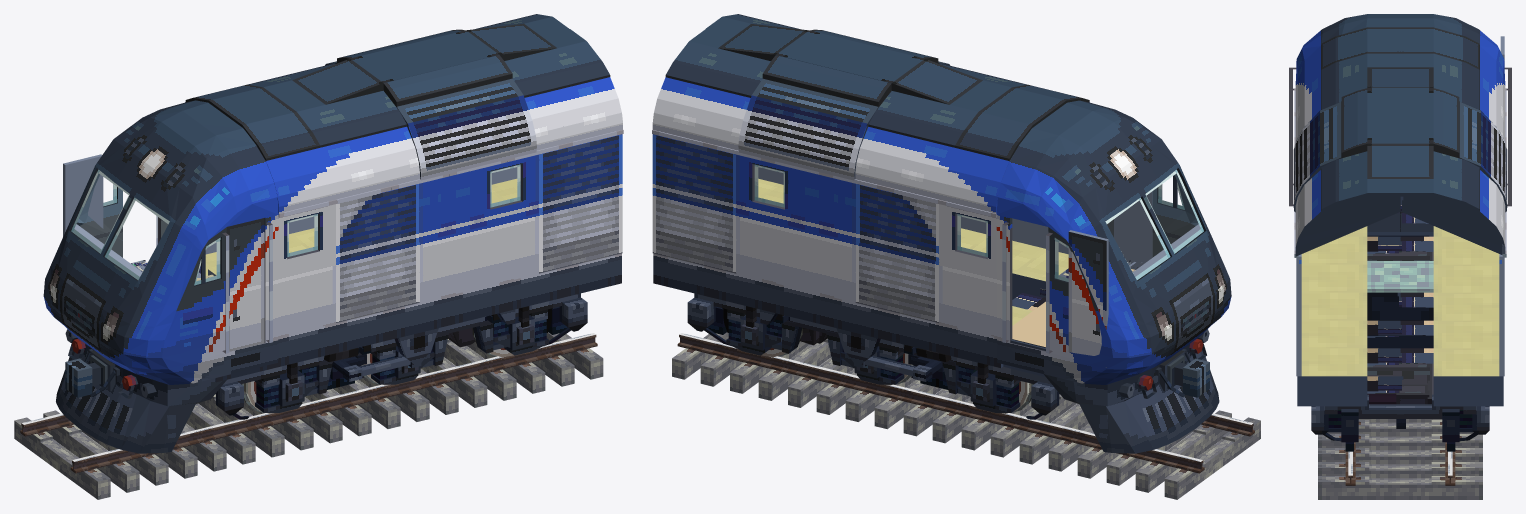
Rendered from df11g_head_example.glb.
The picture shows the model from 3 angles, left to right: view 1: azimuth 30°, elevation 25°; view 2: azimuth 150°, elevation 25°; view 3: azimuth 270°, elevation 25°; orthographic projection.
Visible parts, largest first — view 1: body_mesh, roof_mesh, head_mesh, track_mesh, underbody_mesh, cowcatcher_mesh; view 2: body_mesh, roof_mesh, head_mesh, track_mesh, underbody_mesh, cowcatcher_mesh; view 3: roof_mesh, body_mesh, underbody_mesh, track_mesh, head_mesh, cowcatcher_mesh, wheel_2.
Boxes of the visible parts, left/top/right/bottom form: body_mesh: left=63, top=134, right=622, bottom=382; roof_mesh: left=185, top=14, right=623, bottom=217; head_mesh: left=43, top=100, right=278, bottom=384; track_mesh: left=14, top=332, right=603, bottom=499; underbody_mesh: left=215, top=293, right=587, bottom=419; cowcatcher_mesh: left=56, top=329, right=226, bottom=453; body_mesh: left=652, top=134, right=1152, bottom=376; roof_mesh: left=652, top=14, right=1089, bottom=217; head_mesh: left=996, top=100, right=1231, bottom=384; track_mesh: left=672, top=332, right=1260, bottom=499; underbody_mesh: left=687, top=280, right=1059, bottom=419; cowcatcher_mesh: left=1010, top=329, right=1219, bottom=453; roof_mesh: left=1293, top=27, right=1507, bottom=257; body_mesh: left=1296, top=36, right=1504, bottom=406; underbody_mesh: left=1311, top=212, right=1489, bottom=451; track_mesh: left=1318, top=419, right=1482, bottom=499; head_mesh: left=1289, top=14, right=1511, bottom=235; cowcatcher_mesh: left=1367, top=212, right=1433, bottom=231; wheel_2: left=1367, top=394, right=1396, bottom=404.
Bounding box in the file's own units: 9 × 5.32 × 3.38.
2 materials, 2 textured.
